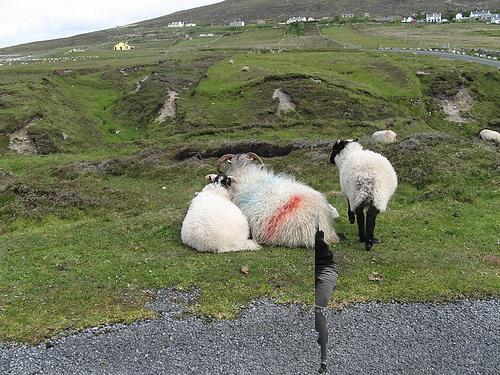tampered: (316, 201, 338, 373)
